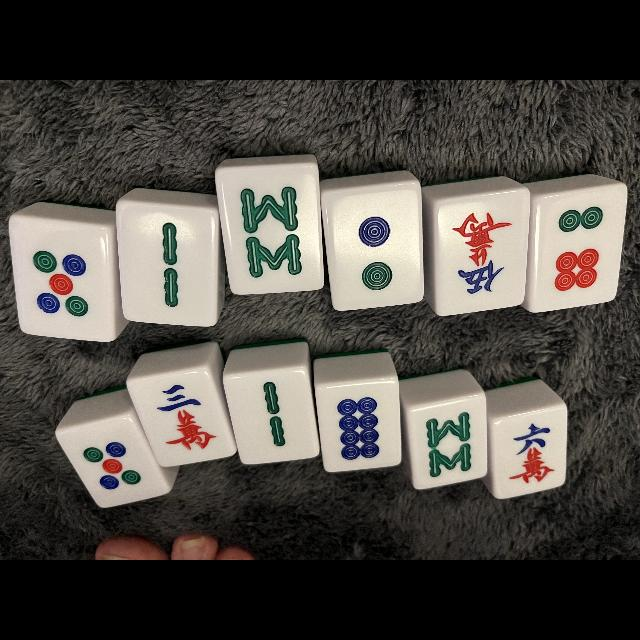b2: (118, 209, 218, 323), (230, 371, 314, 461)
b8: (224, 166, 320, 290), (413, 402, 485, 486)
c3: (143, 372, 224, 462)
c5: (438, 195, 522, 309)
c6: (497, 413, 565, 493)
d2: (328, 188, 420, 304)
d5: (14, 218, 110, 336), (76, 424, 150, 500)
d6: (538, 192, 616, 306)
d8: (320, 383, 398, 469)
